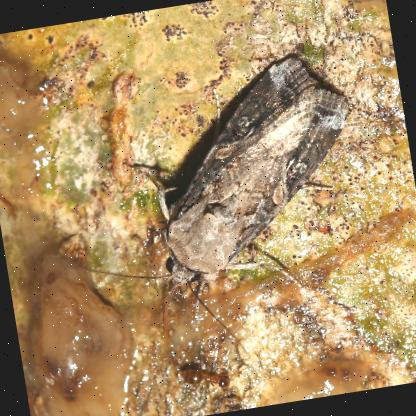Fall Armyworm Moth: (45, 44, 385, 360)
